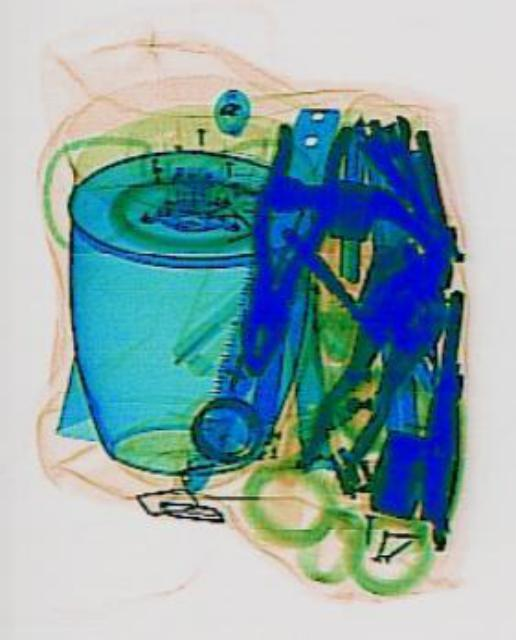Pliers: (213, 101, 353, 385)
